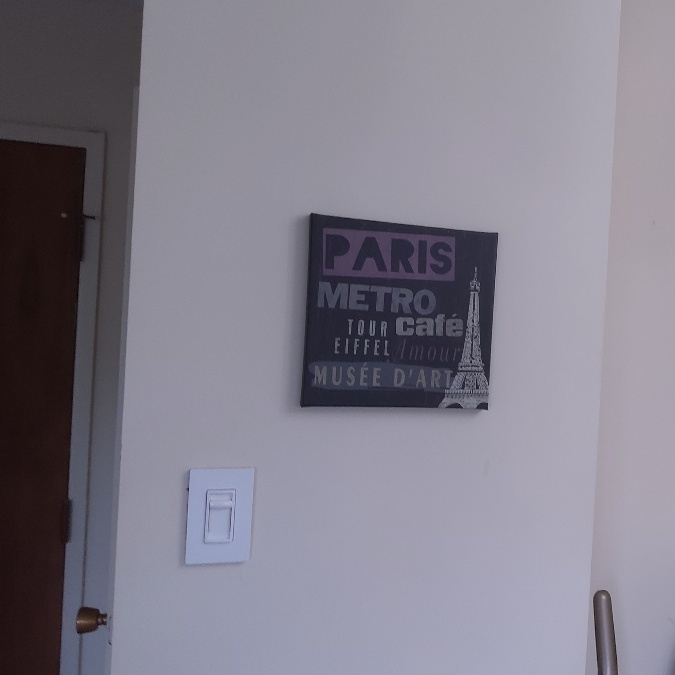poster: (297, 208, 503, 421)
